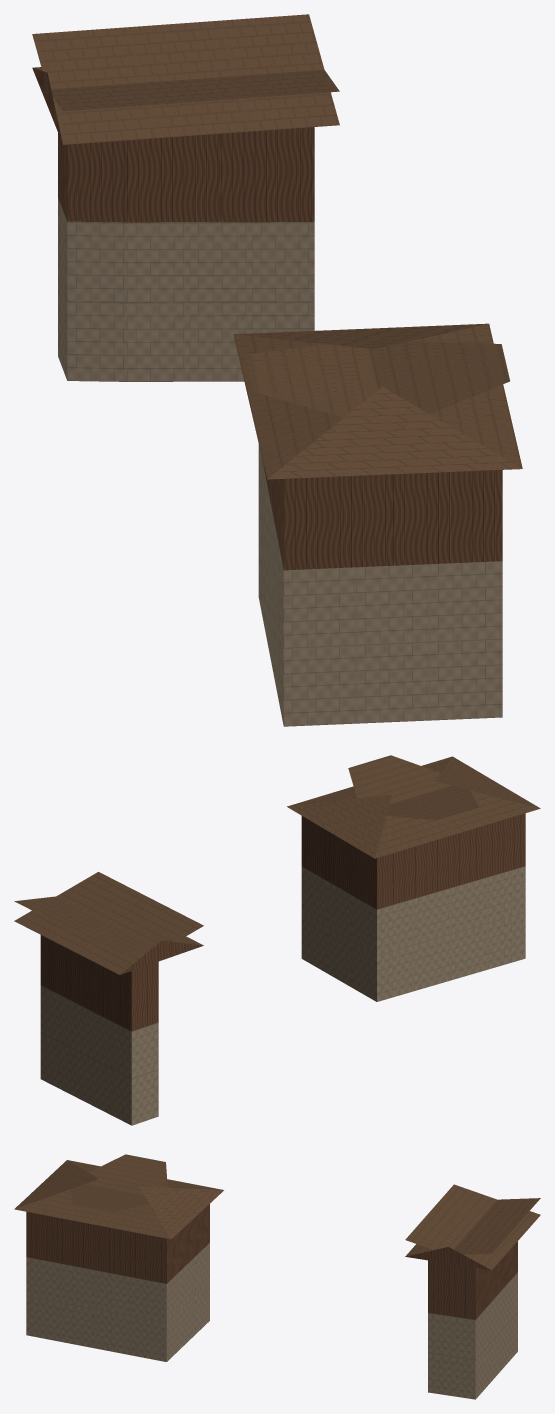
File: bld_c13_46_503.gltf
3 renders of one model, top to bottom at view 1: azimuth 30°, elevation 25°; view 2: azimuth 150°, elevation 25°; view 3: azimuth 270°, elevation 25°, orthographic. The views are drawn at different scales.
Parts seen in each view (by area): view 1: bld_c13_46_503; view 2: bld_c13_46_503; view 3: bld_c13_46_503.
Part boxes in pixels (box(x1,y1,x2,y2)): bld_c13_46_503: box(32, 14, 522, 726); bld_c13_46_503: box(14, 755, 540, 1125); bld_c13_46_503: box(14, 1154, 540, 1399).
Size of the model in its own units: 14.53 by 9.1 by 28.4.
4 materials, 4 textured.
